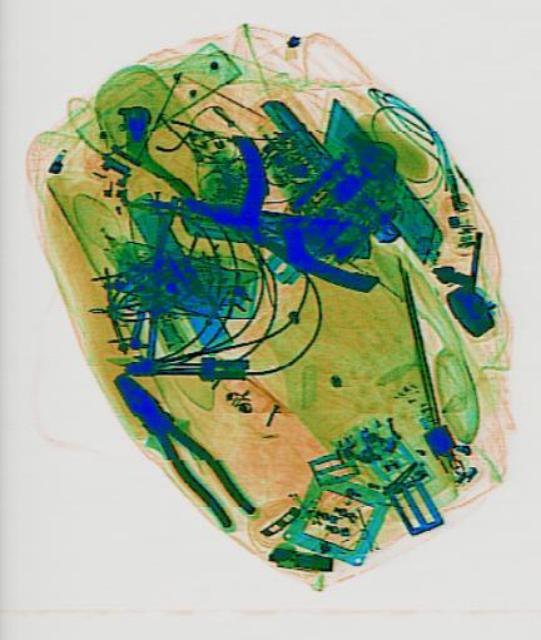Pliers: (101, 358, 257, 536)
